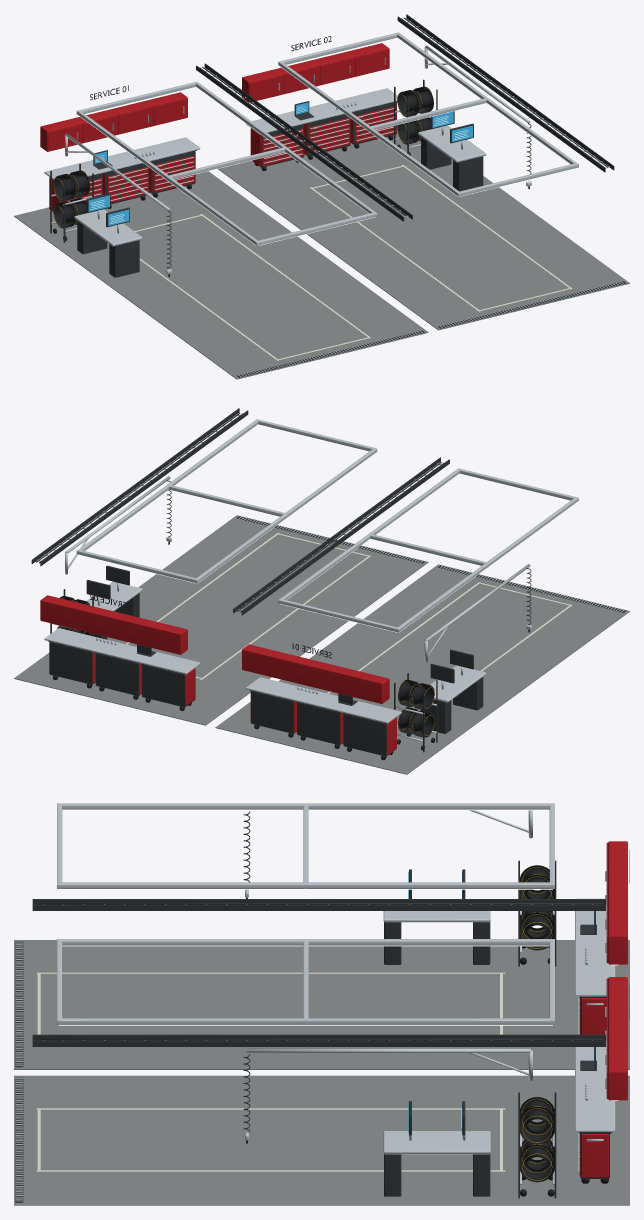
The model's file is pit-props.glb.
3 views of the same model, one above another, from view 1: azimuth 30°, elevation 25°; view 2: azimuth 150°, elevation 25°; view 3: azimuth 270°, elevation 25° (orthographic). The views are drawn at different scales.
Visible parts, largest first — view 1: pit-props | Grey epoxy floor, pit-props | Brushed aluminium, pit-props | Powder coated graphite, pit-props | Baked crimson cabinet enamel, pit-props | Satin slick rubber, pit-props | Ivory floor marking, pit-props | Warm white LED diffuser, pit-props | Screen blue; view 2: pit-props | Grey epoxy floor, pit-props | Powder coated graphite, pit-props | Brushed aluminium, pit-props | Baked crimson cabinet enamel, pit-props | Satin slick rubber, pit-props | Ivory floor marking, pit-props | Warm white LED diffuser; view 3: pit-props | Grey epoxy floor, pit-props | Brushed aluminium, pit-props | Powder coated graphite, pit-props | Baked crimson cabinet enamel, pit-props | Satin slick rubber, pit-props | Ivory floor marking, pit-props | Warm white LED diffuser, pit-props | Safety ochre.
Boxes of the visible parts, x1=… form: pit-props | Grey epoxy floor: x1=14, y1=125, x2=629, y2=379; pit-props | Brushed aluminium: x1=44, y1=21, x2=624, y2=377; pit-props | Powder coated graphite: x1=50, y1=14, x2=626, y2=377; pit-props | Baked crimson cabinet enamel: x1=40, y1=43, x2=396, y2=211; pit-props | Satin slick rubber: x1=53, y1=86, x2=433, y2=240; pit-props | Ivory floor marking: x1=113, y1=116, x2=572, y2=360; pit-props | Warm white LED diffuser: x1=48, y1=37, x2=576, y2=245; pit-props | Screen blue: x1=88, y1=102, x2=472, y2=225; pit-props | Grey epoxy floor: x1=14, y1=515, x2=629, y2=774; pit-props | Powder coated graphite: x1=31, y1=408, x2=626, y2=756; pit-props | Brushed aluminium: x1=36, y1=414, x2=624, y2=741; pit-props | Baked crimson cabinet enamel: x1=40, y1=595, x2=396, y2=755; pit-props | Satin slick rubber: x1=48, y1=596, x2=434, y2=760; pit-props | Ivory floor marking: x1=126, y1=533, x2=572, y2=726; pit-props | Warm white LED diffuser: x1=79, y1=424, x2=577, y2=632; pit-props | Grey epoxy floor: x1=14, y1=940, x2=629, y2=1205; pit-props | Brushed aluminium: x1=15, y1=803, x2=615, y2=1201; pit-props | Powder coated graphite: x1=15, y1=811, x2=629, y2=1202; pit-props | Baked crimson cabinet enamel: x1=579, y1=841, x2=627, y2=1177; pit-props | Satin slick rubber: x1=519, y1=865, x2=611, y2=1196; pit-props | Ivory floor marking: x1=36, y1=972, x2=505, y2=1171; pit-props | Warm white LED diffuser: x1=58, y1=809, x2=618, y2=1127; pit-props | Safety ochre: x1=522, y1=867, x2=552, y2=1180.
Size of the model in its own units: 11.71 by 3.35 by 11.5.
